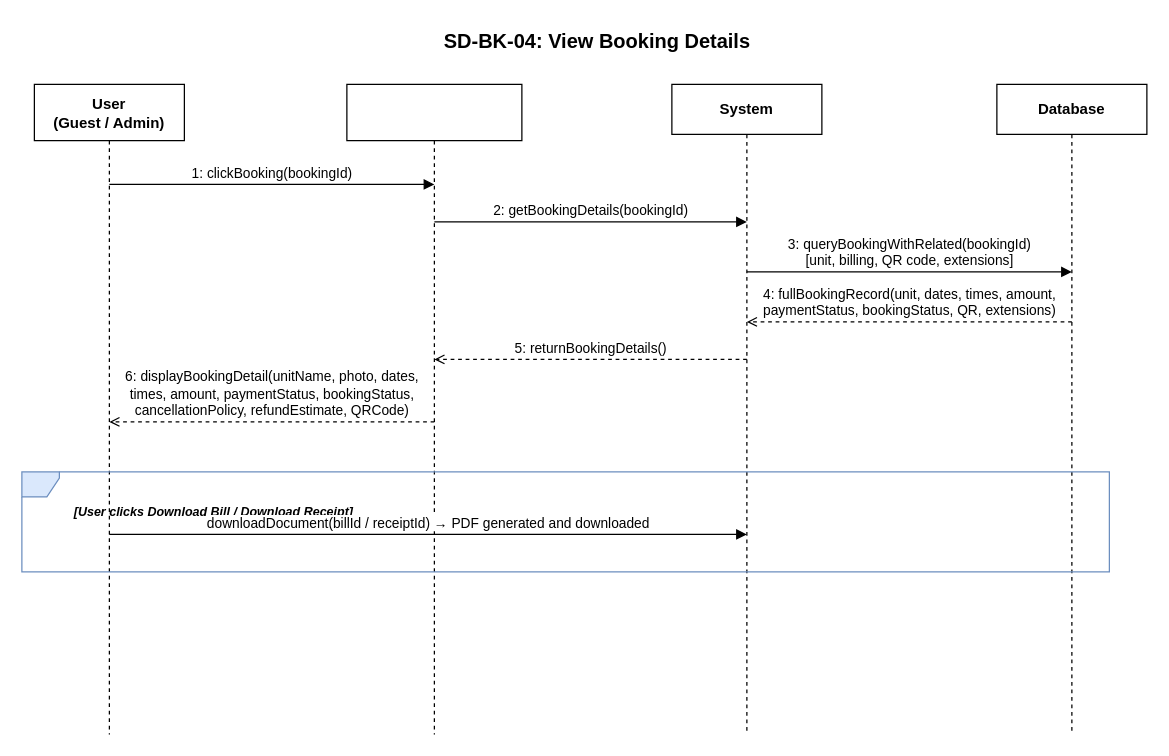
This 1169x756 diagram has some shape labels left out. The box of each missing label's shape, as (x1, y1, x2, y2) in pixels:
Booking Detail Page: (346, 83, 522, 734)
opt: (21, 471, 1109, 572)
